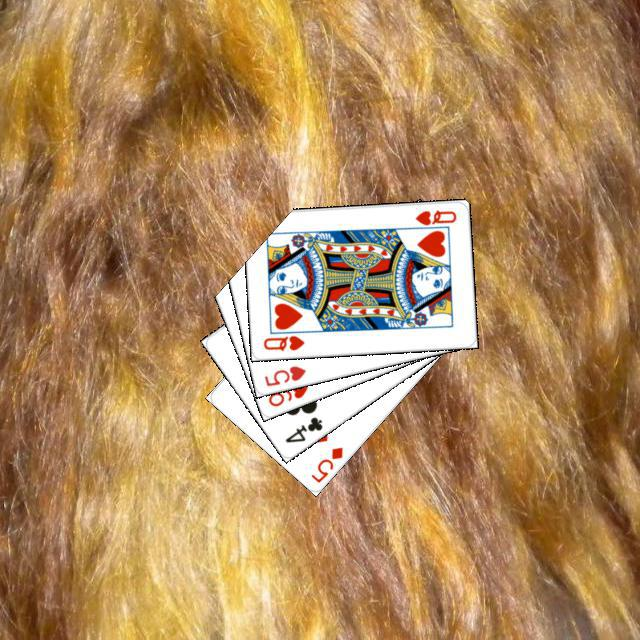4c: (280, 412, 324, 445)
5d: (306, 442, 345, 484)
5h: (259, 361, 308, 388)
9h: (263, 378, 310, 408)
Qh: (406, 205, 458, 231), (258, 330, 306, 353)
